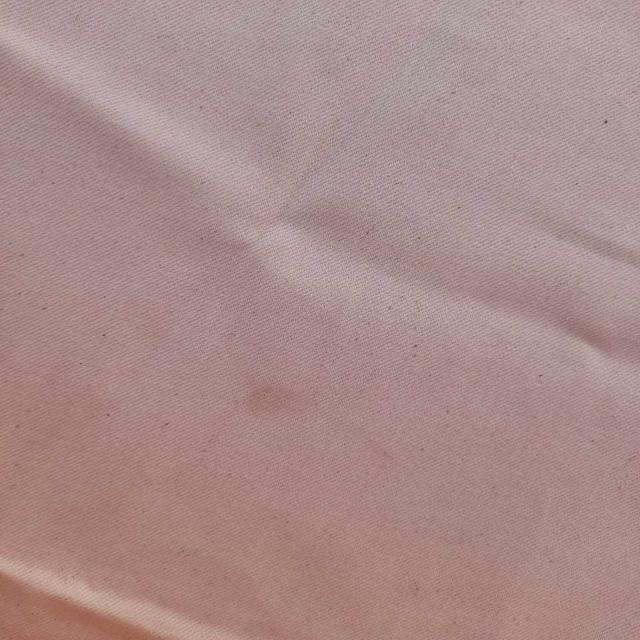taaaches: (236, 370, 326, 438)
